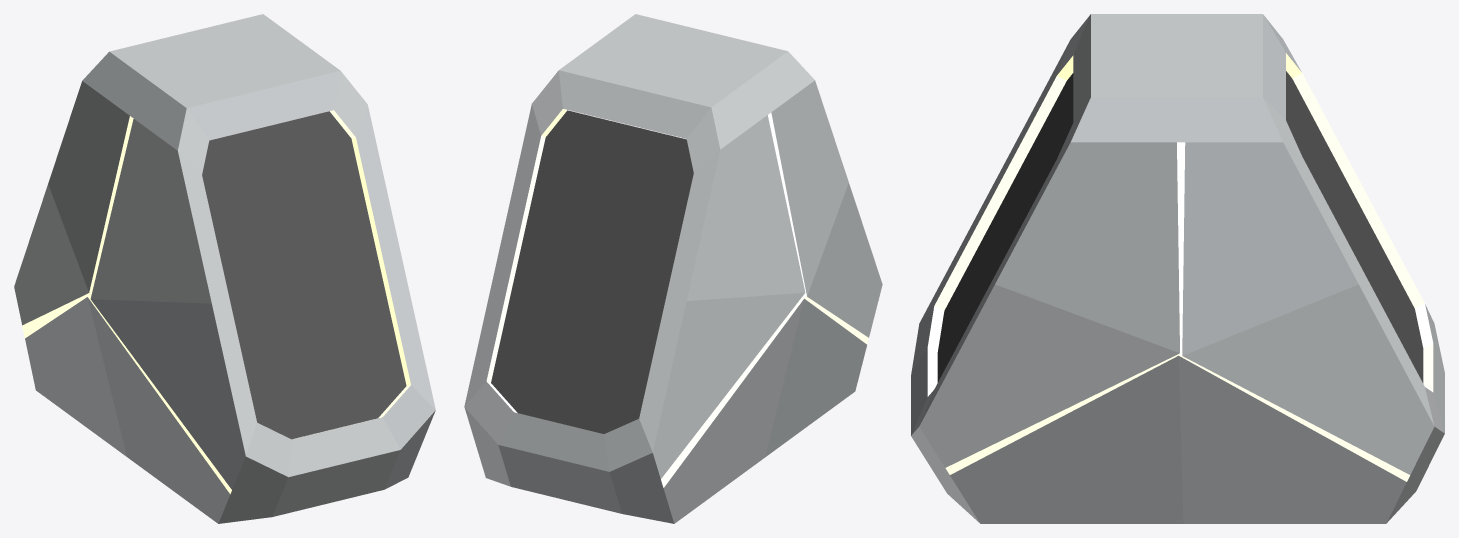
File: alien_computer.glb
3 renders of one model, left to right at view 1: azimuth 30°, elevation 25°; view 2: azimuth 150°, elevation 25°; view 3: azimuth 270°, elevation 25°, orthographic. The views are drawn at different scales.
Visible parts, largest first — view 1: mesh_353921321_material_15___10864_0, mesh_353921321_material_23___10864_0, mesh_353921321_material_9___10864_0; view 2: mesh_353921321_material_15___10864_0, mesh_353921321_material_23___10864_0, mesh_353921321_material_9___10864_0; view 3: mesh_353921321_material_15___10864_0, mesh_353921321_material_23___10864_0, mesh_353921321_material_9___10864_0.
Part boxes in pixels (x1,y1,x2,y2): mesh_353921321_material_15___10864_0: (14,14,435,523); mesh_353921321_material_23___10864_0: (202,111,406,439); mesh_353921321_material_9___10864_0: (22,110,410,494); mesh_353921321_material_15___10864_0: (464,14,882,523); mesh_353921321_material_23___10864_0: (491,110,693,433); mesh_353921321_material_9___10864_0: (486,109,868,487); mesh_353921321_material_15___10864_0: (911,14,1444,523); mesh_353921321_material_23___10864_0: (937,71,1423,383); mesh_353921321_material_9___10864_0: (927,53,1433,481).
Bounding box in the file's own units: 26.93 × 35.7 × 41.45.
